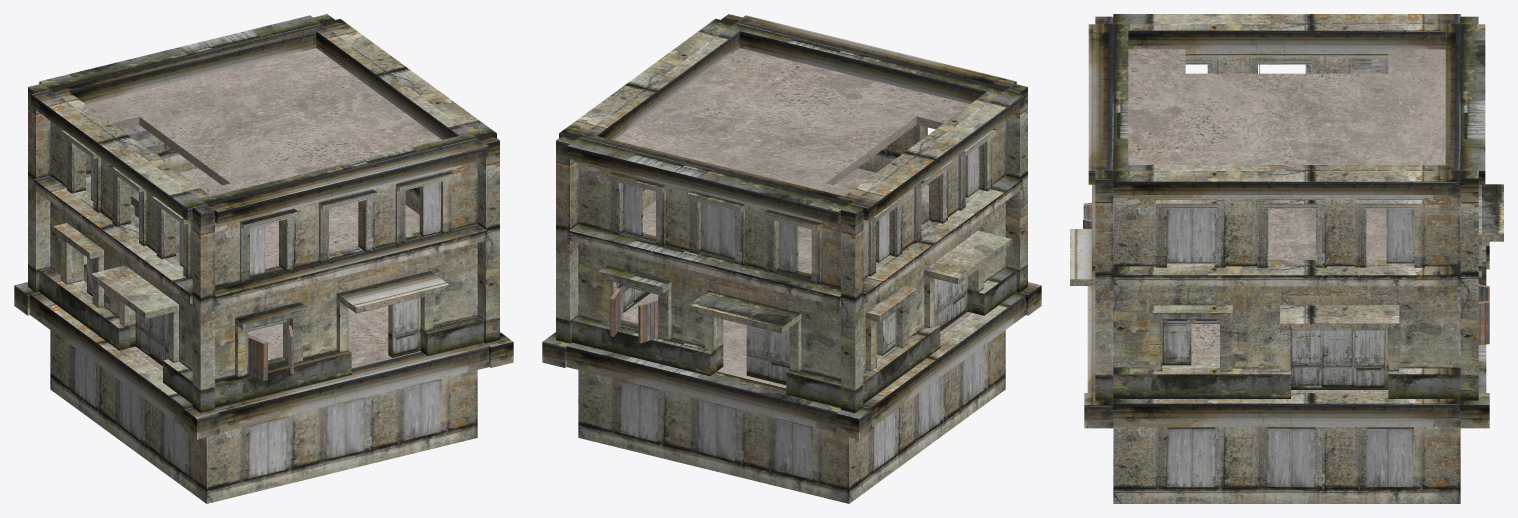
The model's file is BagBuilding10_140.fbx.
3 views of the same model, side by side, from view 1: azimuth 30°, elevation 25°; view 2: azimuth 150°, elevation 25°; view 3: azimuth 270°, elevation 25° (orthographic). The views are drawn at different scales.
Parts seen in each view (by area): view 1: main140, floors140, shutters140, stairs140; view 2: main140, floors140, shutters140; view 3: main140, floors140, shutters140.
Boxes of the visible parts, x1,y1,x2,y2 form: main140: [14, 14, 513, 503]; floors140: [86, 48, 441, 371]; shutters140: [248, 325, 293, 380]; stairs140: [120, 125, 179, 258]; main140: [542, 14, 1041, 503]; floors140: [614, 48, 972, 388]; shutters140: [610, 288, 658, 343]; main140: [1070, 14, 1503, 503]; floors140: [1128, 49, 1445, 392]; shutters140: [1083, 202, 1489, 345].
Bounding box in the file's own units: 23.1 × 19.56 × 23.1.
